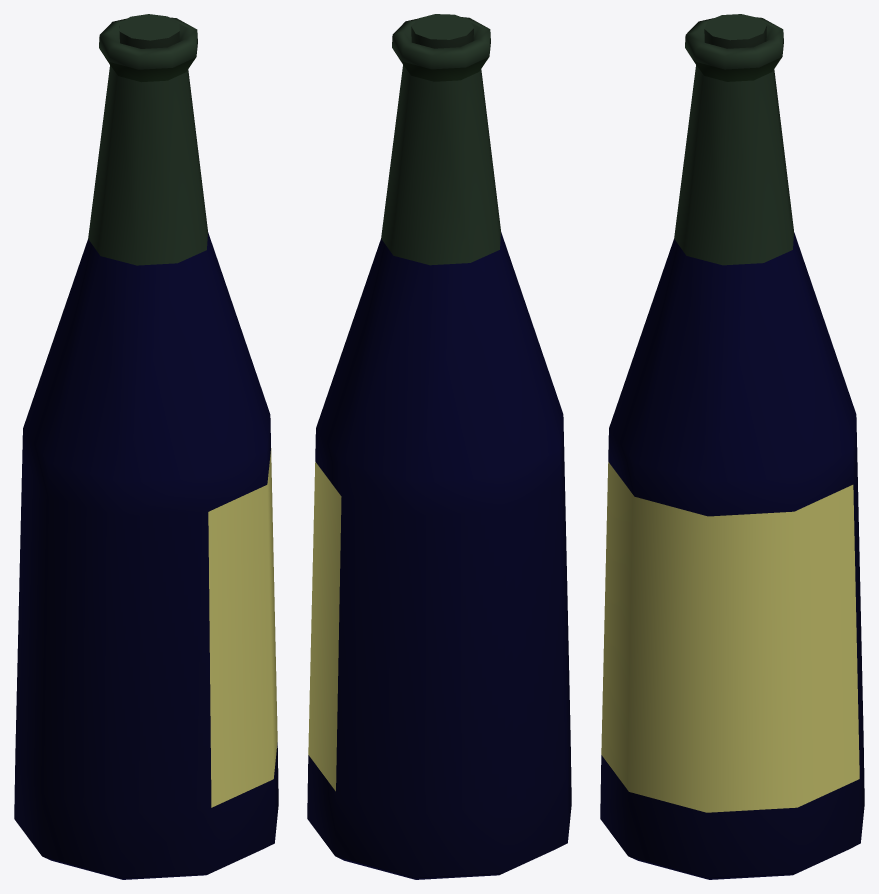
File: consumables-drinks-winebottle_v1.fbx
3 views of the same model, side by side, from view 1: azimuth 30°, elevation 25°; view 2: azimuth 150°, elevation 25°; view 3: azimuth 270°, elevation 25° (orthographic).
Parts seen in each view (by area): view 1: WineBottle_v1_refl, WineBottle_v1_base; view 2: WineBottle_v1_refl, WineBottle_v1_base; view 3: WineBottle_v1_base, WineBottle_v1_refl.
Boxes of the visible parts, box(x1,y1,x2,y2) form: WineBottle_v1_refl: box(14, 232, 278, 879); WineBottle_v1_base: box(88, 14, 277, 807); WineBottle_v1_refl: box(307, 232, 571, 879); WineBottle_v1_base: box(308, 14, 500, 791); WineBottle_v1_base: box(601, 14, 859, 812); WineBottle_v1_refl: box(600, 232, 864, 879).
Size of the model in its own units: 0.1238 by 0.4107 by 0.1228.
